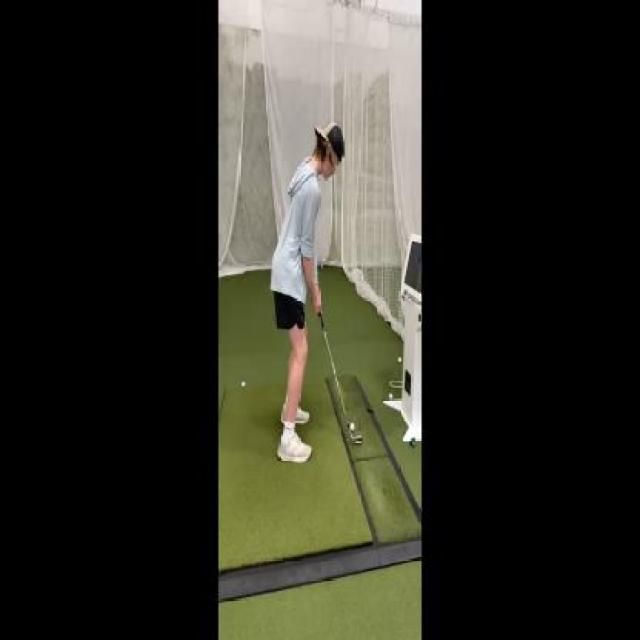club head: (349, 430, 363, 447)
